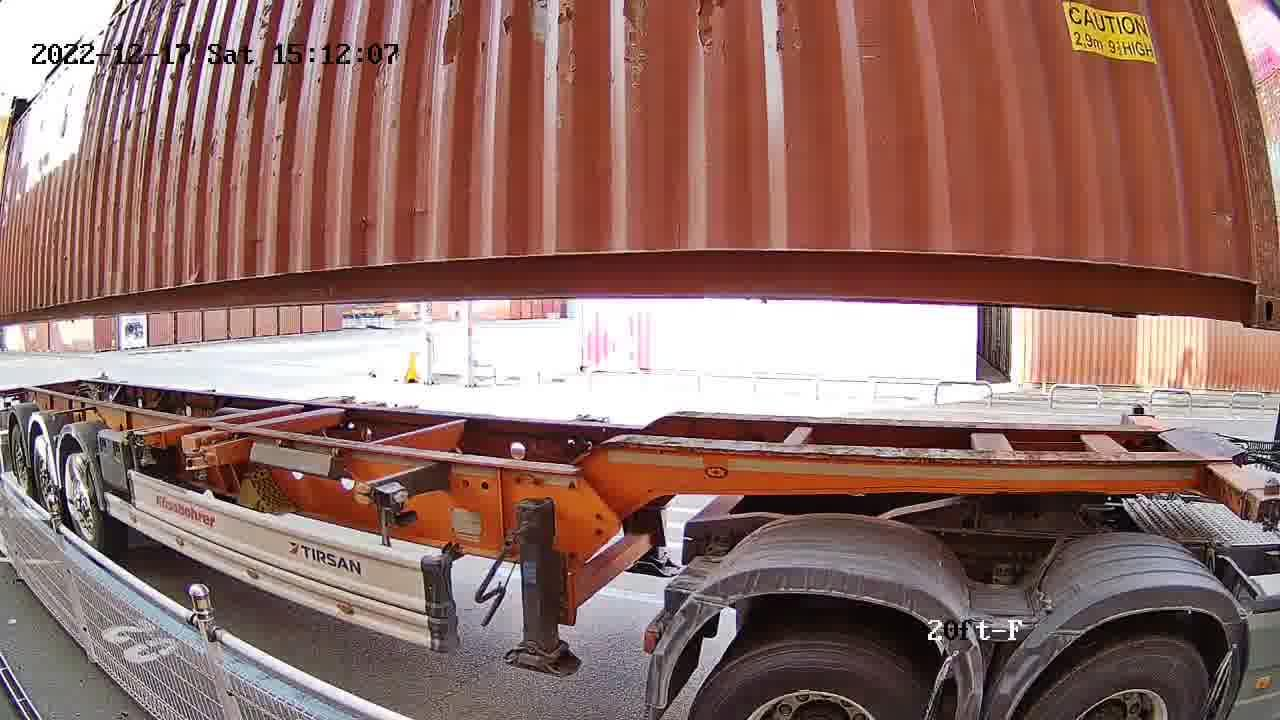Chassis: (1133, 410, 1279, 506)
Cone: (1250, 472, 1279, 540), (1123, 401, 1154, 421)
Hole_R: (1202, 248, 1280, 332)
Tire: (692, 644, 936, 716), (1029, 637, 1210, 715)
